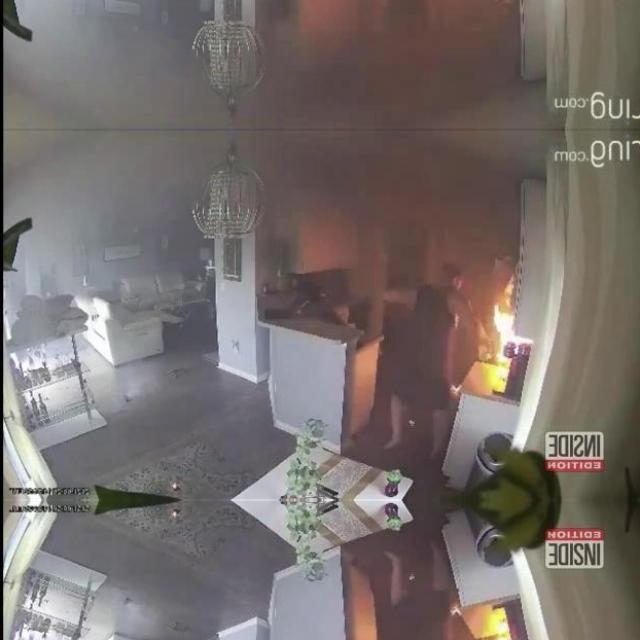fire: (264, 132, 518, 265), (262, 0, 521, 127), (0, 130, 200, 292), (3, 0, 201, 129)
smoke: (492, 301, 536, 364)
